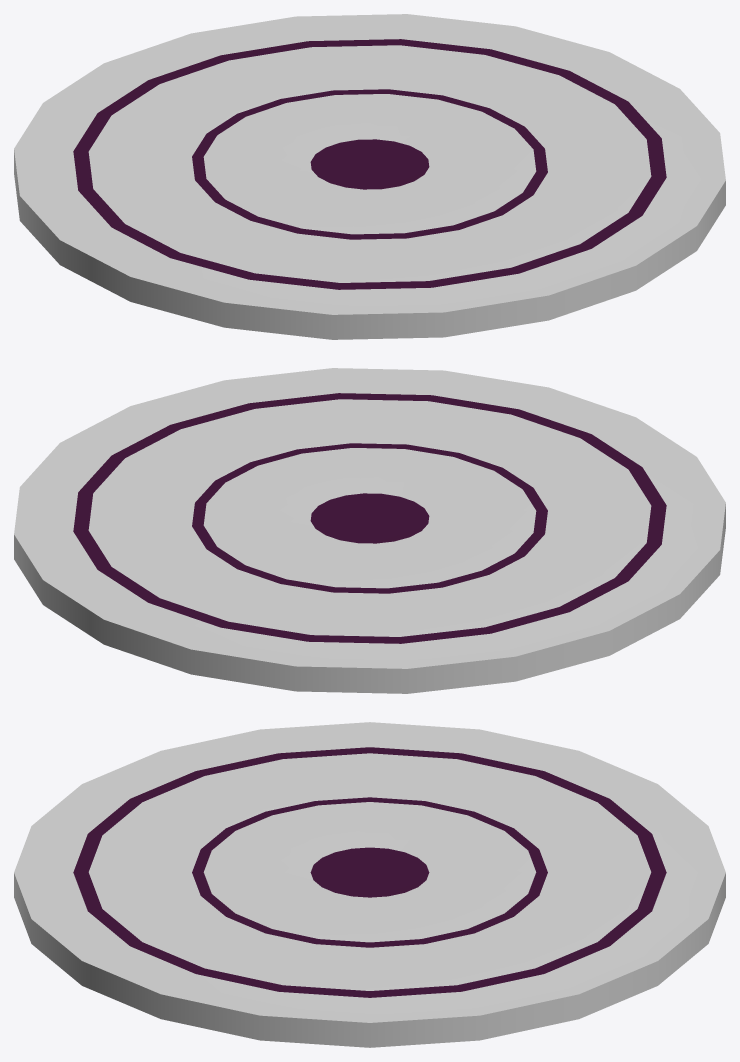
Rendered from onion.fbx.
The picture shows the model from 3 angles, top to bottom: view 1: azimuth 30°, elevation 25°; view 2: azimuth 150°, elevation 25°; view 3: azimuth 270°, elevation 25°; orthographic projection.
Visible parts, largest first — view 1: onion; view 2: onion; view 3: onion.
Part boxes in pixels (left/top/right/bottom): onion: left=14, top=14, right=725, bottom=339; onion: left=14, top=368, right=725, bottom=693; onion: left=14, top=722, right=725, bottom=1047.
Size of the model in its own units: 54.7 by 2.17 by 54.7.
